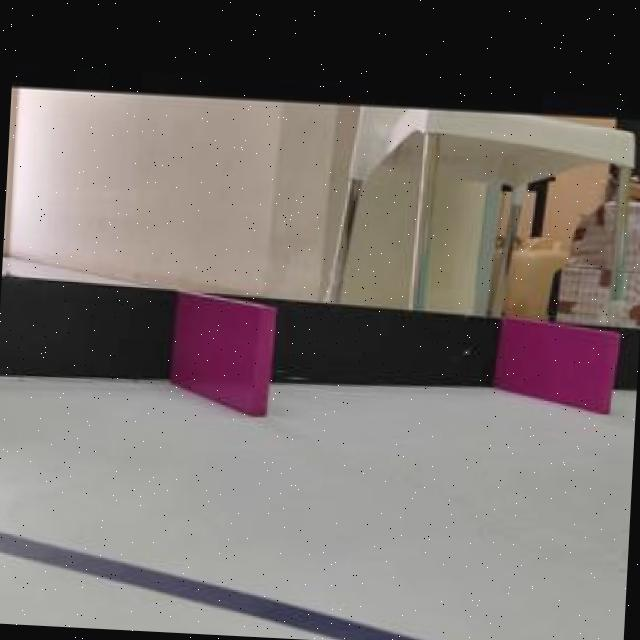xparking: (178, 301, 274, 415), (503, 324, 618, 412)
